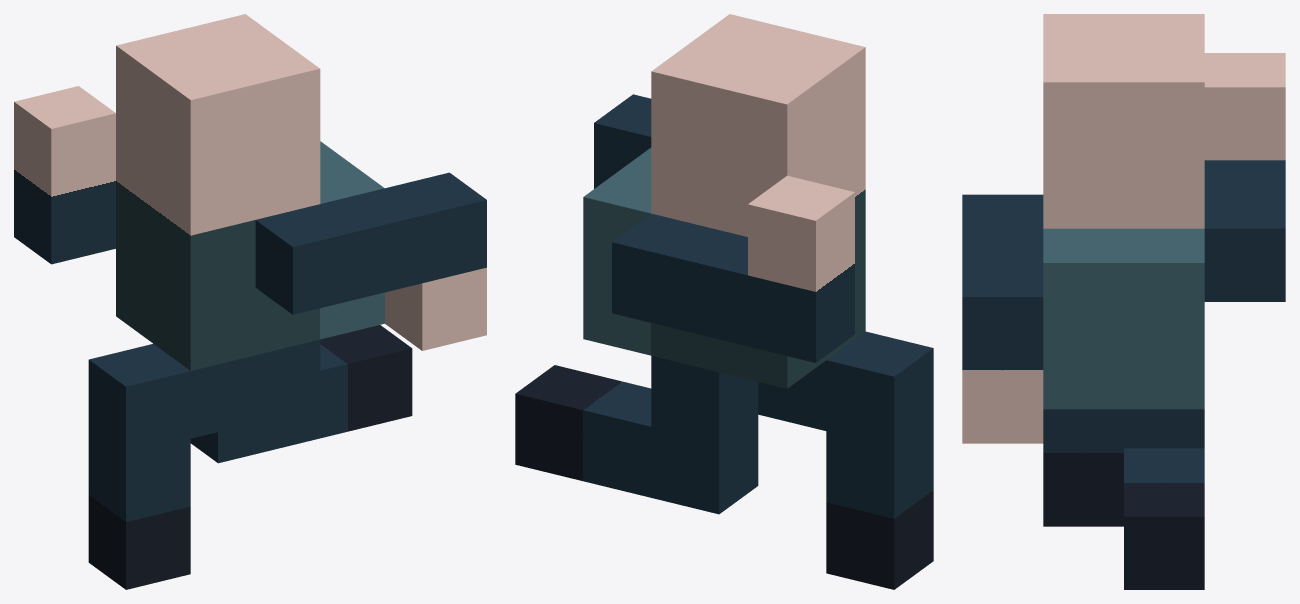
Rendered from sam_run6.fbx.
3 views of the same model, side by side, from view 1: azimuth 30°, elevation 25°; view 2: azimuth 150°, elevation 25°; view 3: azimuth 270°, elevation 25° (orthographic). The views are drawn at different scales.
Visible parts, largest first — view 1: sam_run6; view 2: sam_run6; view 3: sam_run6.
Part boxes in pixels (box(x1,y1,x2,y2)): sam_run6: box(14, 14, 486, 589); sam_run6: box(515, 14, 933, 589); sam_run6: box(962, 14, 1285, 589).
Size of the model in its own units: 5 by 7 by 4.
Materials: 1 (1 with a texture image).
